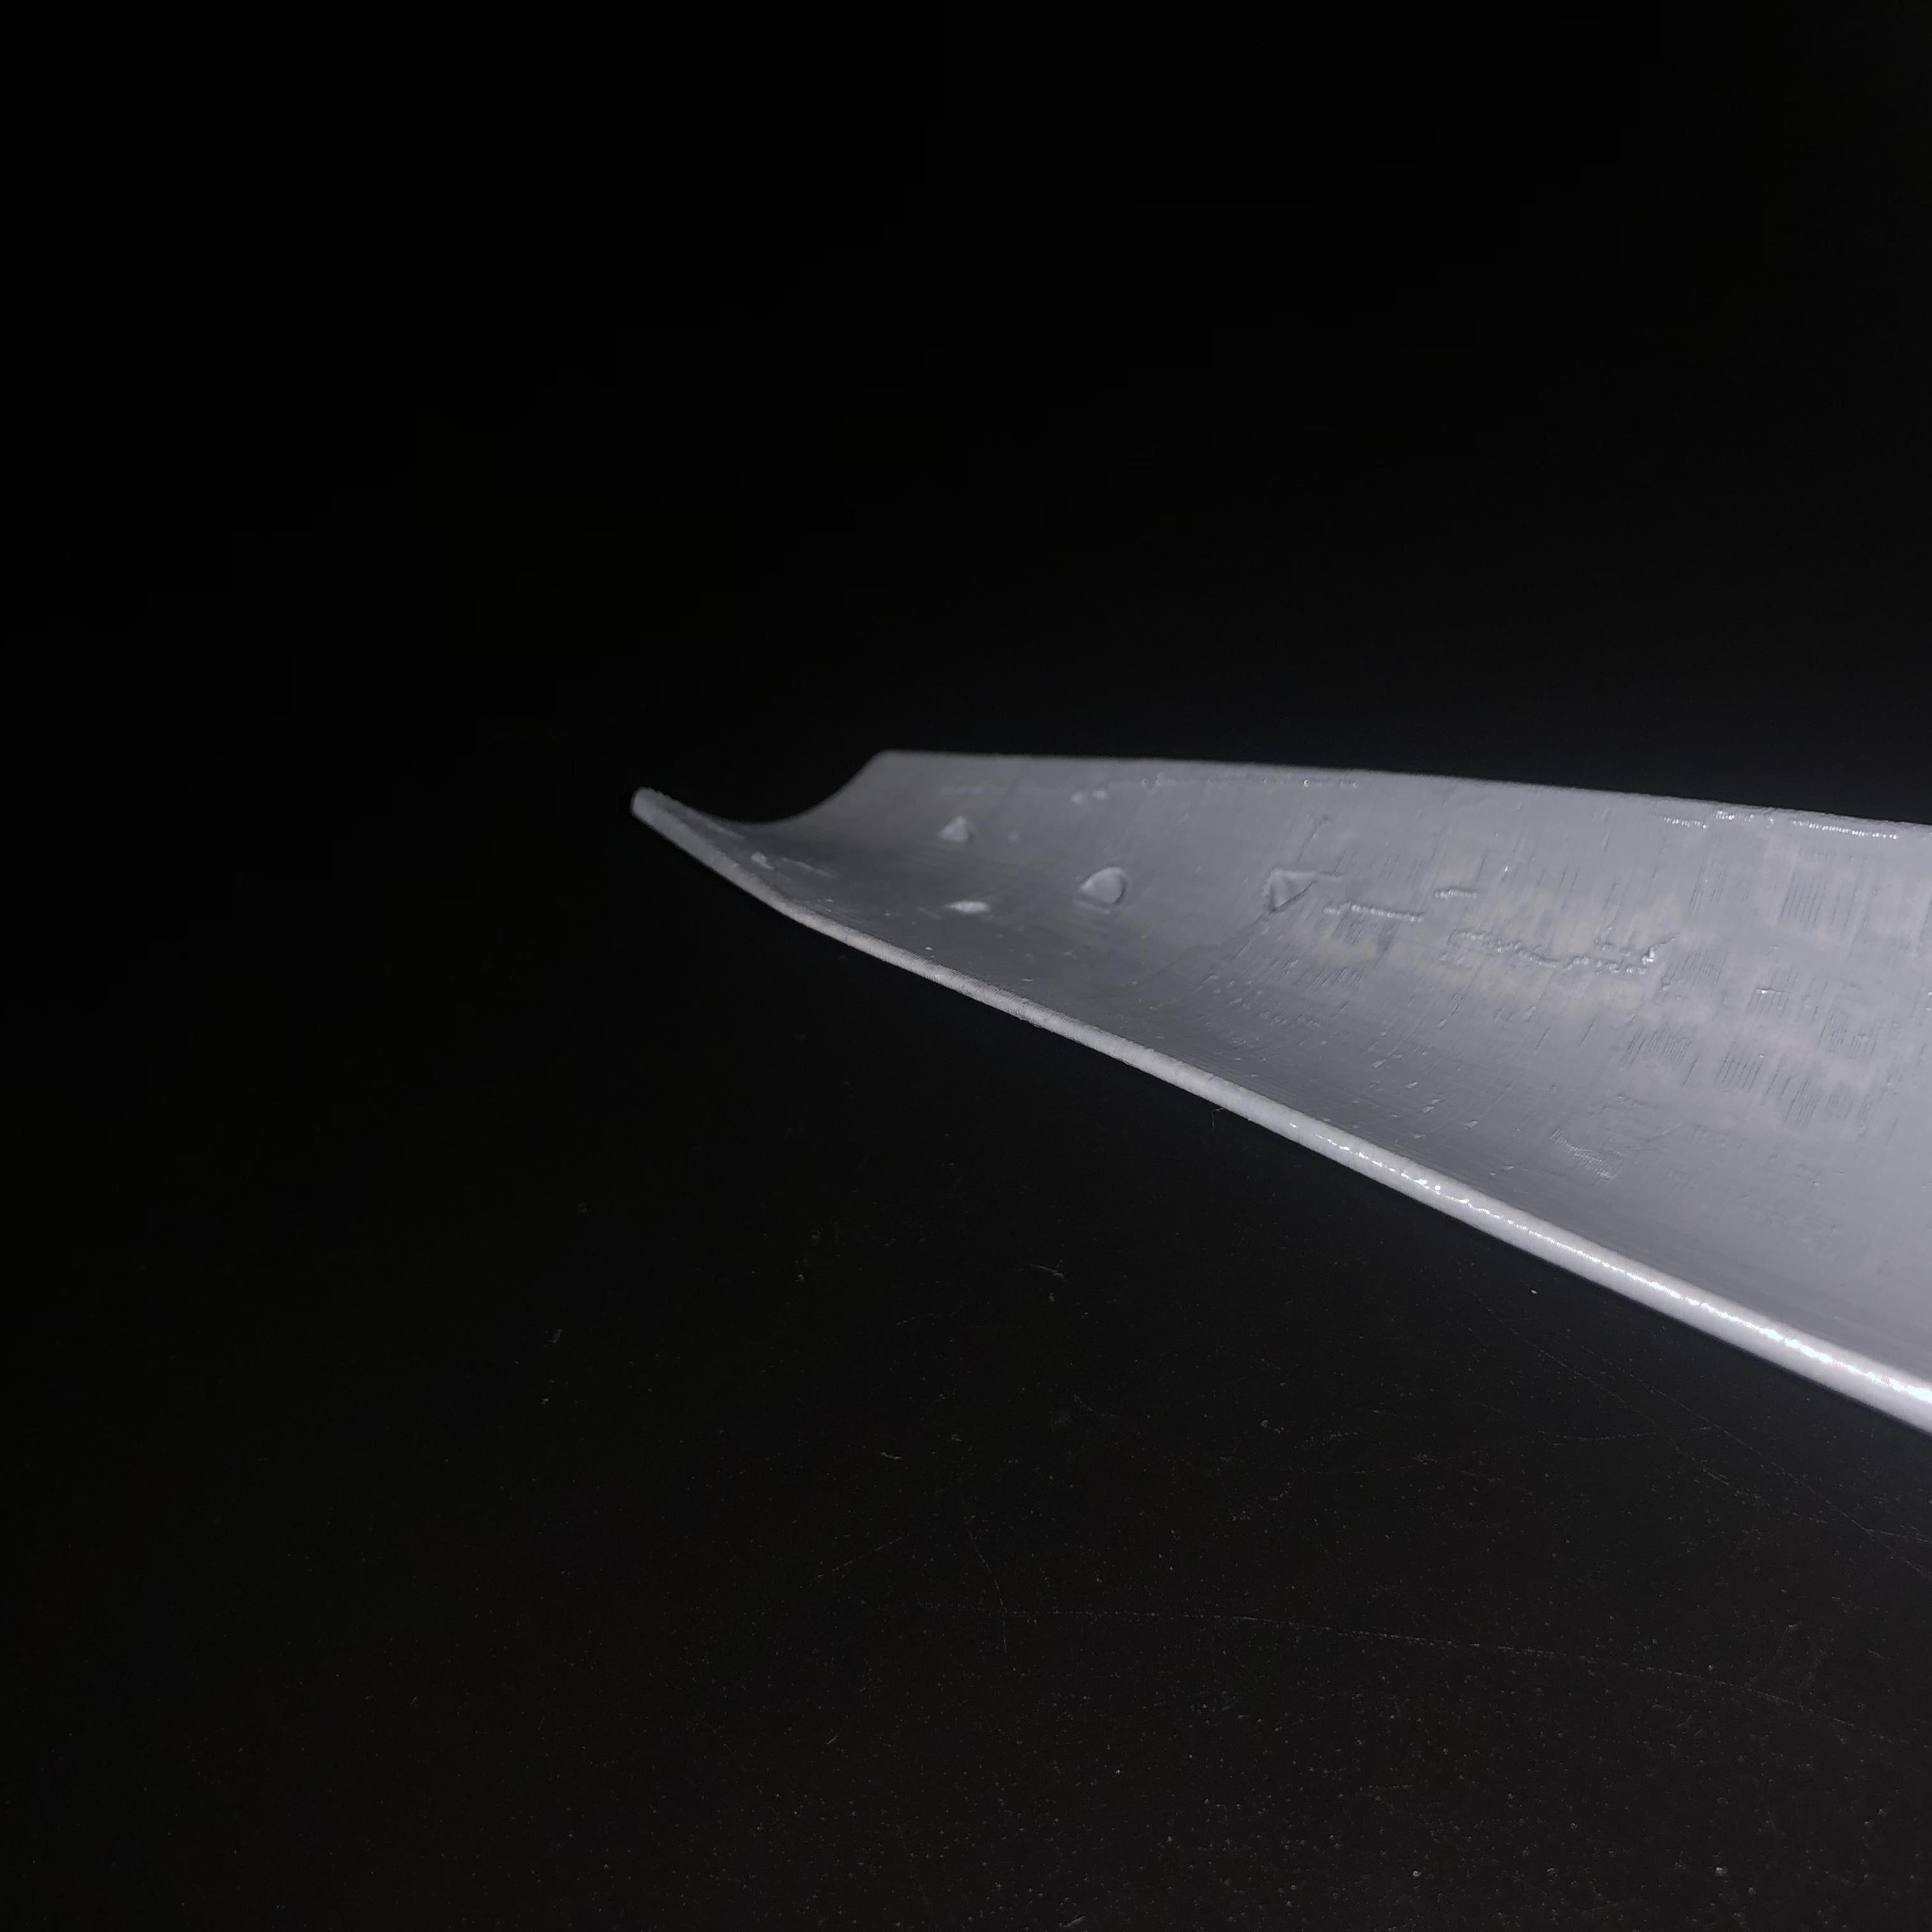breakdown: (936, 812, 1338, 925)
